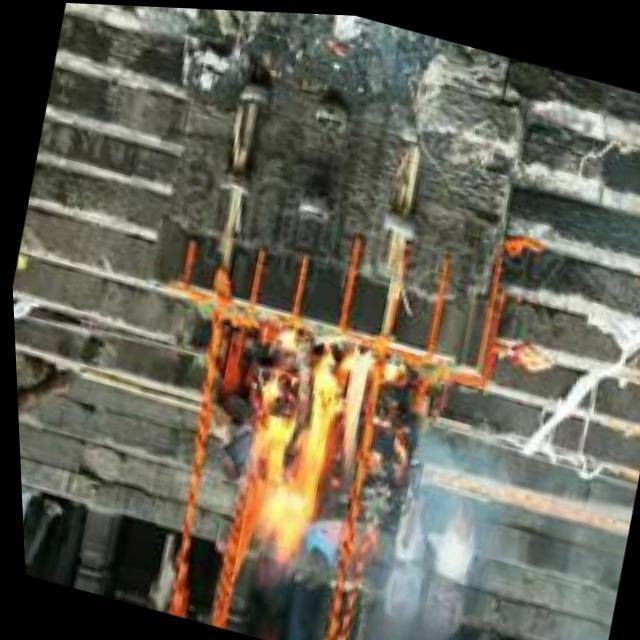Fire: (214, 317, 386, 583)
